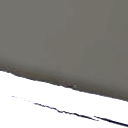crackTip: (4, 87, 128, 127)
